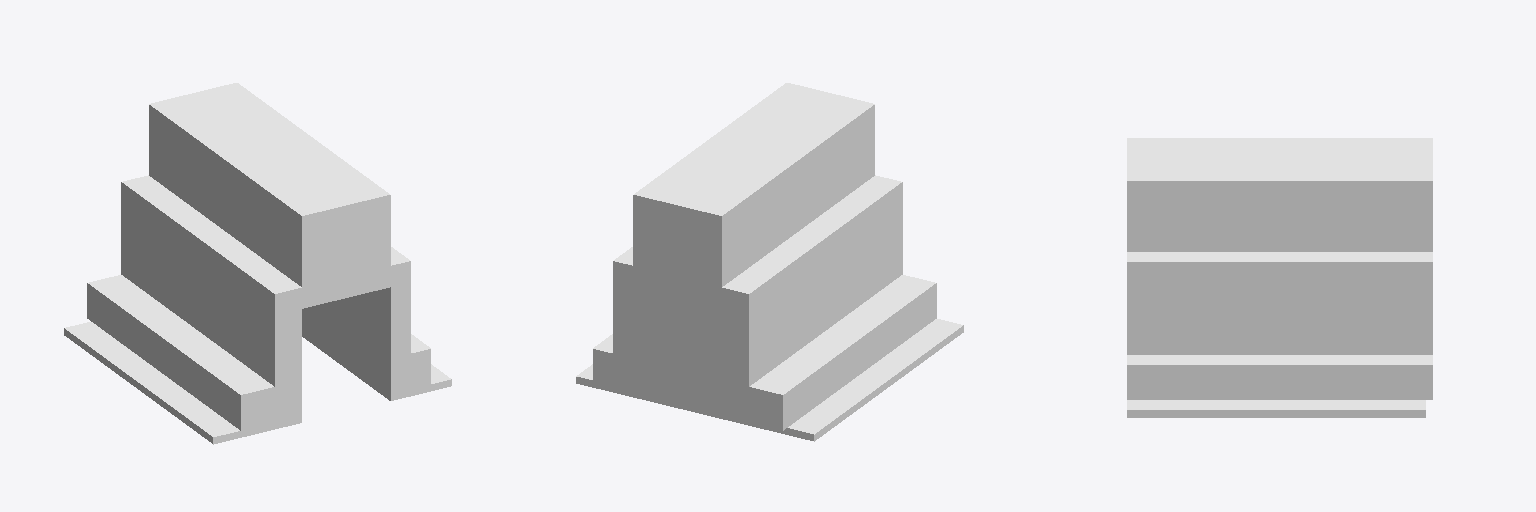
The model's file is cabana.obj.
The picture shows the model from 3 angles: view 1: azimuth 30°, elevation 25°; view 2: azimuth 150°, elevation 25°; view 3: azimuth 270°, elevation 25°; orthographic projection.
Parts seen in each view (by area): view 1: object 1; view 2: object 1; view 3: object 1.
Part boxes in pixels (bbox=[...]): object 1: bbox=[64, 83, 451, 444]; object 1: bbox=[576, 83, 963, 441]; object 1: bbox=[1127, 138, 1432, 417].
Bounding box in the file's own units: 3.5 × 2.9 × 3.9.